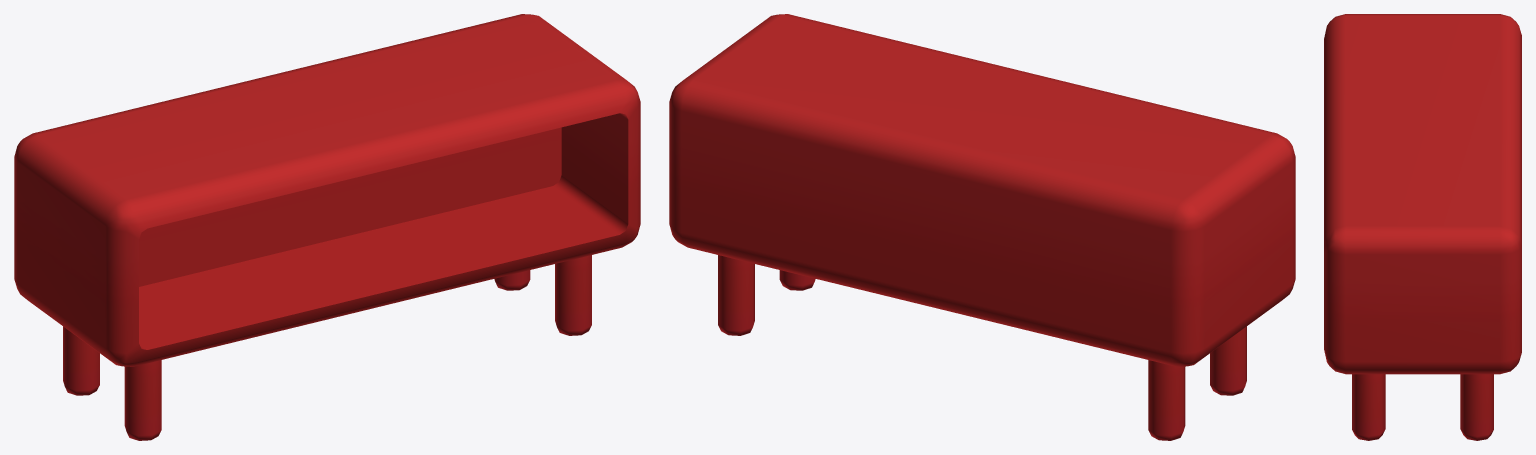
The model's file is TV_Stand_07.glb.
The picture shows the model from 3 angles, left to right: view 1: azimuth 30°, elevation 25°; view 2: azimuth 150°, elevation 25°; view 3: azimuth 270°, elevation 25°; orthographic projection. The views are drawn at different scales.
Visible parts, largest first — view 1: TV_Stand_07; view 2: TV_Stand_07; view 3: TV_Stand_07.
Boxes of the visible parts, x1,y1,x2,y2 form: TV_Stand_07: (14,14,640,440); TV_Stand_07: (669,14,1295,440); TV_Stand_07: (1324,14,1521,440).
Size of the model in its own units: 1.25 by 0.5712 by 0.4572.
Materials: 1 (1 with a texture image).
